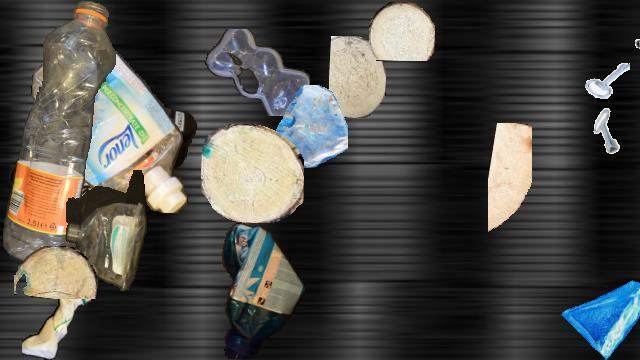glass: (560, 269, 640, 359), (265, 85, 347, 167)
metal: (586, 108, 632, 154), (585, 59, 629, 103), (623, 2, 640, 58)
plastic: (3, 1, 115, 265), (30, 40, 190, 212), (9, 111, 197, 247), (216, 221, 304, 359), (66, 170, 148, 292), (205, 29, 311, 115), (22, 275, 90, 359), (638, 90, 640, 166)
wood: (201, 124, 303, 222), (488, 123, 532, 239), (329, 36, 385, 118), (14, 246, 98, 298), (369, 2, 435, 60)
